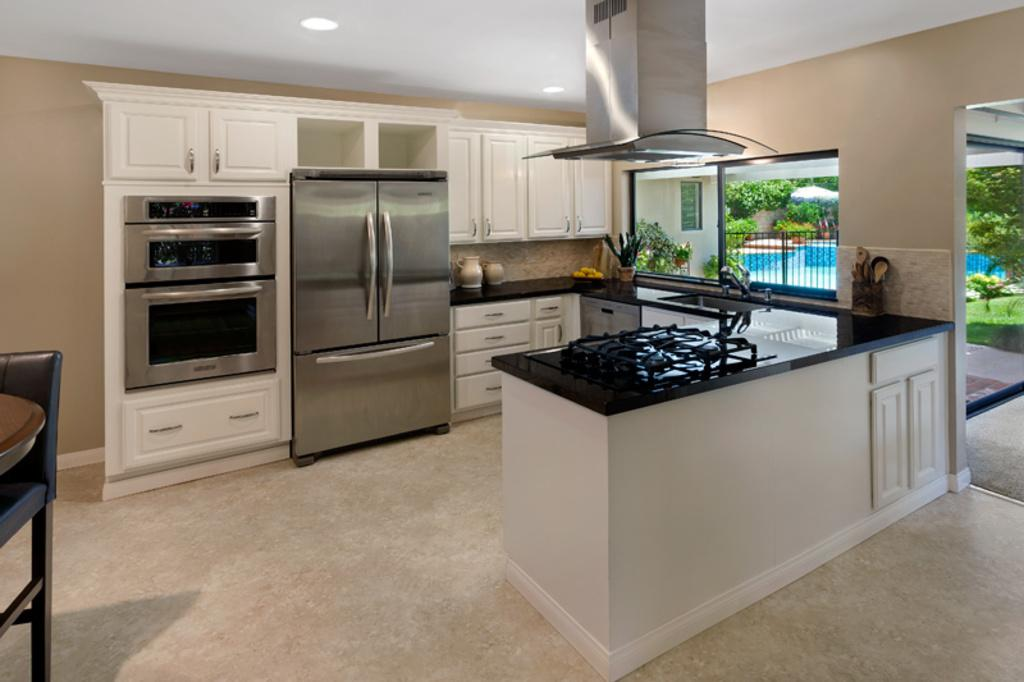cabinet_door: (138, 394, 280, 440), (114, 106, 202, 179), (207, 111, 285, 179), (486, 142, 528, 235), (532, 142, 574, 229), (445, 140, 481, 238), (574, 168, 606, 236), (466, 325, 520, 345), (465, 308, 525, 324), (462, 377, 500, 397), (536, 298, 566, 314), (460, 356, 489, 370)
handle: (320, 344, 438, 377), (354, 212, 380, 314), (142, 283, 262, 305), (152, 225, 254, 248), (377, 210, 397, 320), (150, 420, 184, 438), (224, 408, 266, 422), (180, 144, 198, 175), (210, 154, 226, 176)
